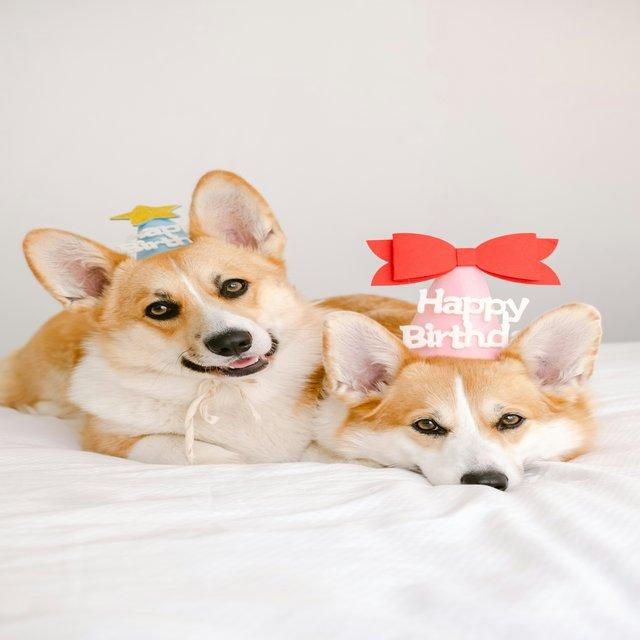corgi: (0, 168, 418, 466), (304, 296, 603, 491)
